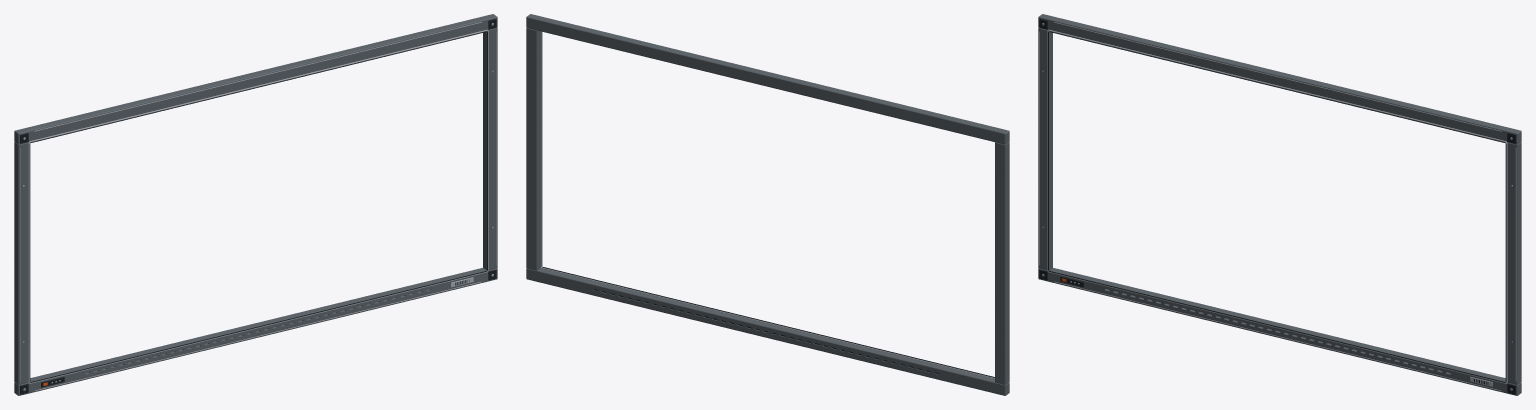
Rendered from board-frame.glb.
3 views of the same model, side by side, from view 1: azimuth 30°, elevation 25°; view 2: azimuth 150°, elevation 25°; view 3: azimuth 330°, elevation 25° (orthographic).
Visible parts, largest first — view 1: board-frame; view 2: board-frame; view 3: board-frame.
Part boxes in pixels (x1,y1,x2,y2): board-frame: (14, 14, 497, 395); board-frame: (526, 14, 1009, 395); board-frame: (1038, 14, 1521, 395).
Size of the model in its own units: 6.3 by 3.3 by 0.1159.
Materials: 4 (2 with a texture image).
